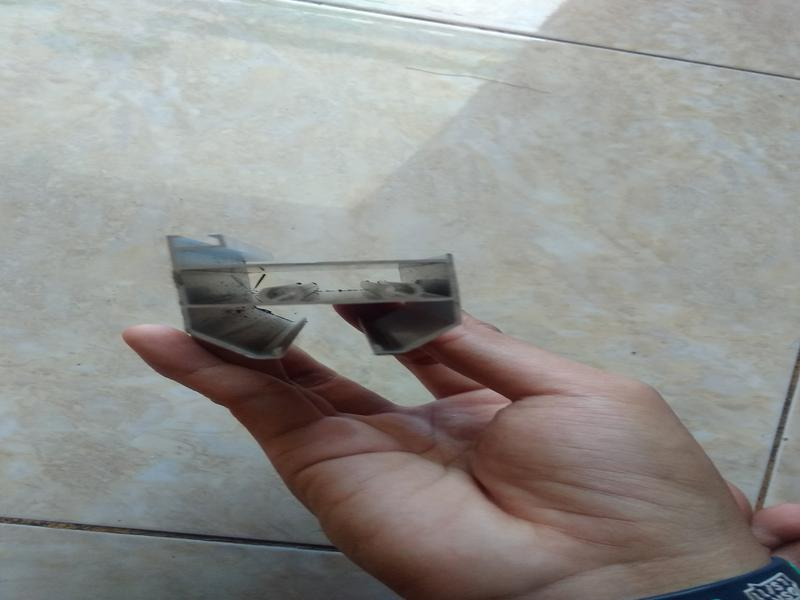Aluminium_3: (151, 216, 486, 368)
